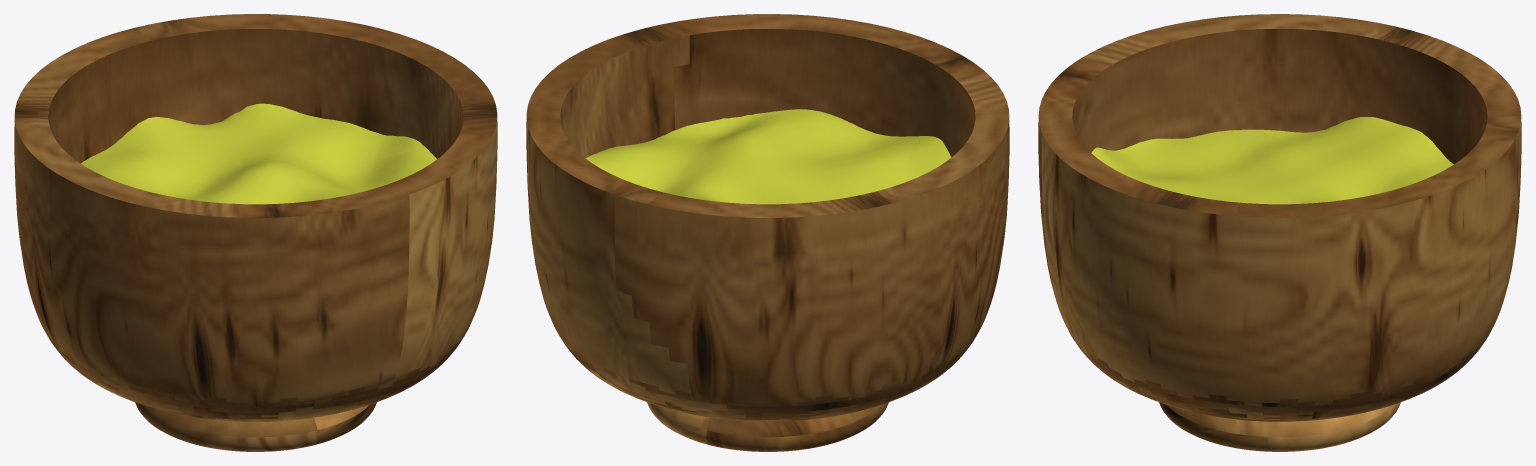
Rendered from Flower_result.fbx.
The picture shows the model from 3 angles, left to right: view 1: azimuth 30°, elevation 25°; view 2: azimuth 150°, elevation 25°; view 3: azimuth 270°, elevation 25°; orthographic projection.
Visible parts, largest first — view 1: tar, Plane; view 2: tar, Plane; view 3: tar, Plane.
Boxes of the visible parts, box(x1,y1,x2,y2) form: tar: box(14, 14, 497, 451); Plane: box(81, 103, 436, 204); tar: box(526, 14, 1009, 451); Plane: box(585, 109, 951, 204); tar: box(1038, 14, 1521, 451); Plane: box(1091, 117, 1453, 204).
Bounding box in the file's own units: 1434 × 950 × 1434.
Materials: 2 (1 with a texture image).
